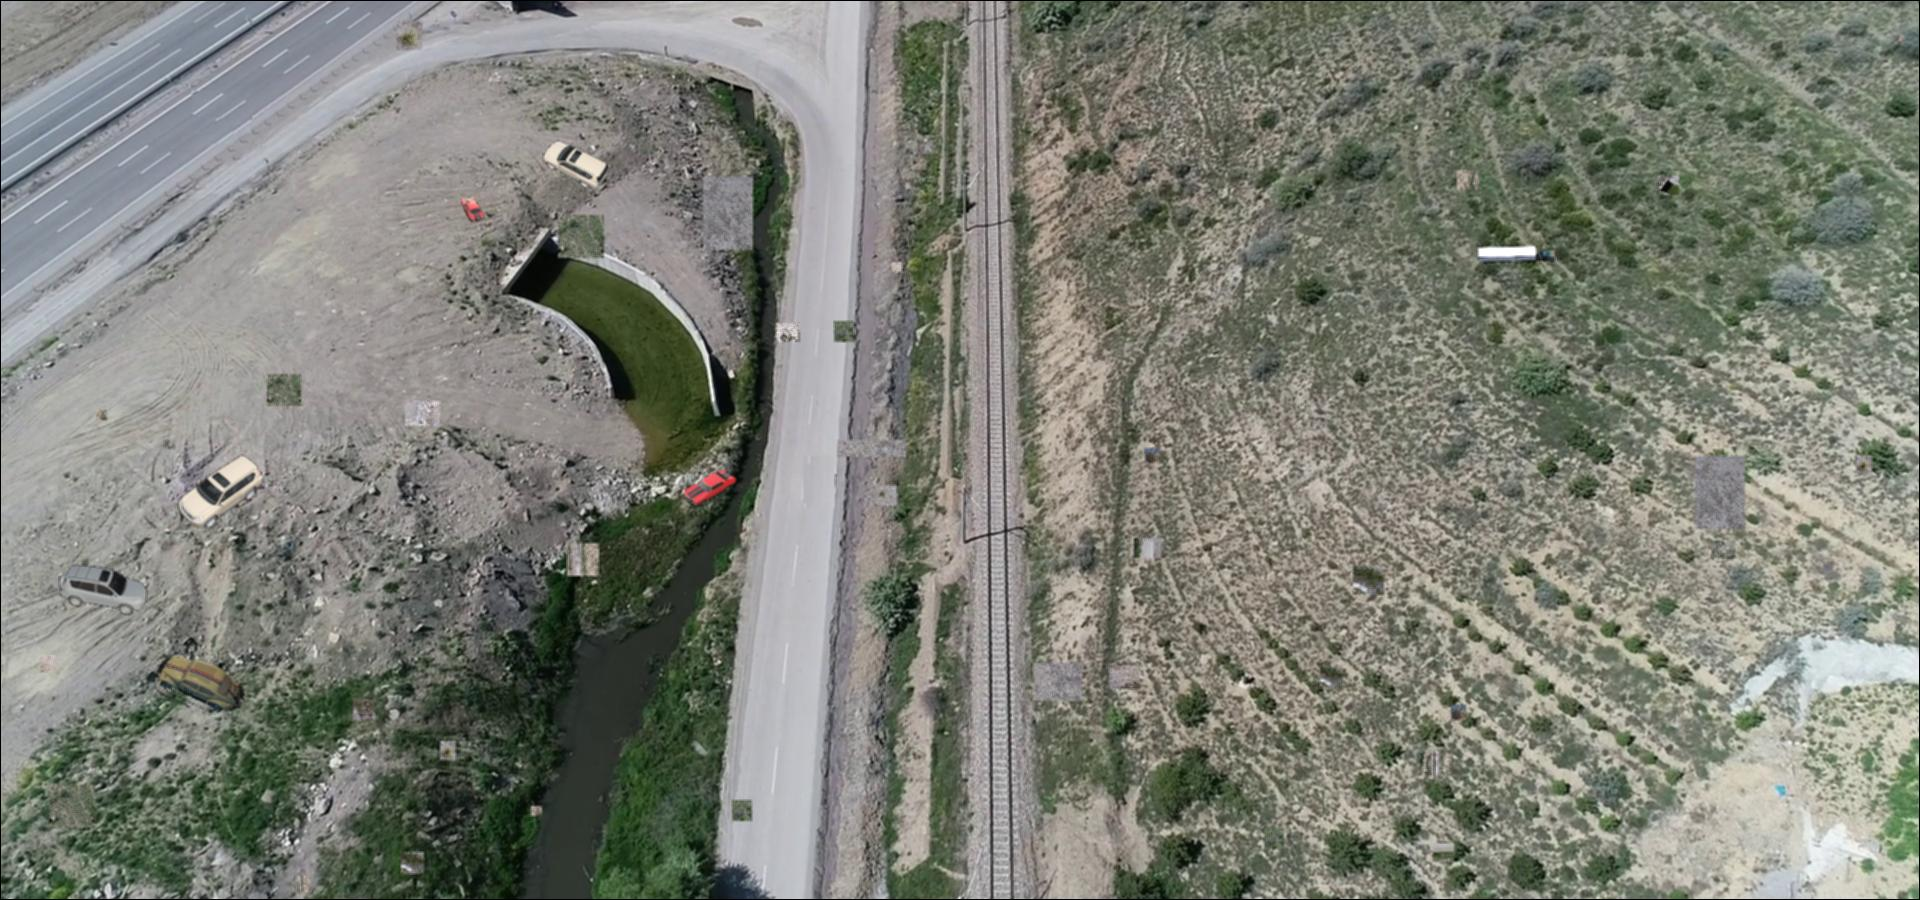arac: (176, 456, 266, 528), (157, 654, 245, 714), (56, 564, 148, 616), (540, 137, 610, 189), (684, 470, 736, 507), (1476, 246, 1558, 264), (459, 196, 485, 222)
